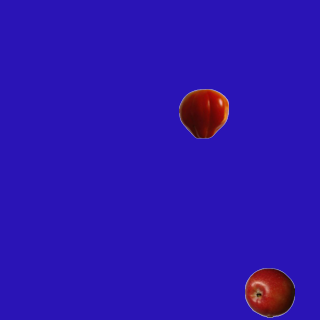Apple Braeburn: (244, 267, 294, 317)
Tomato 1: (178, 88, 228, 138)
